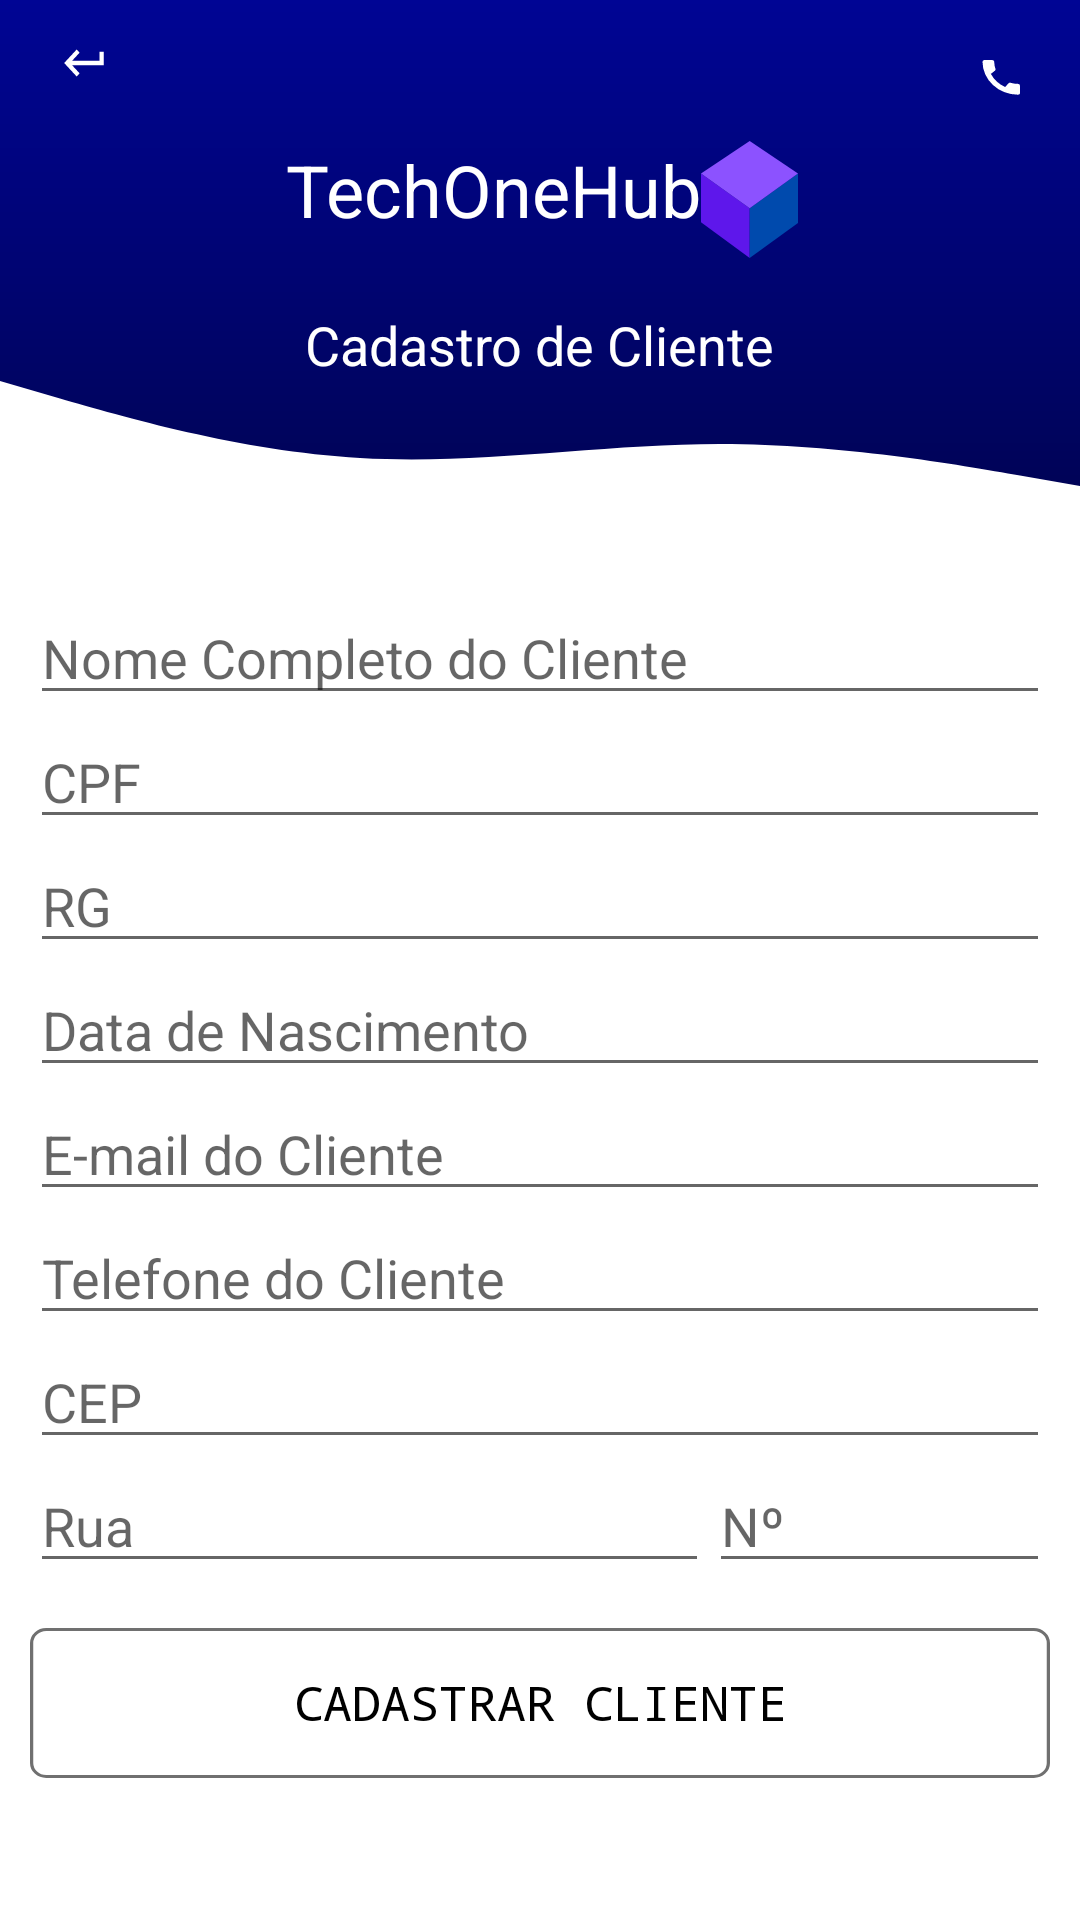

Icon click points for this 1080x1920 phone screenshot, format point (x, y):
back: point (84, 63)
call: point (1001, 77)
